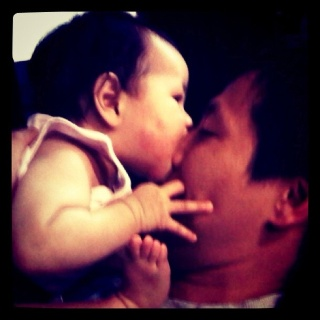without_mask: (170, 71, 283, 268), (110, 37, 194, 183)
